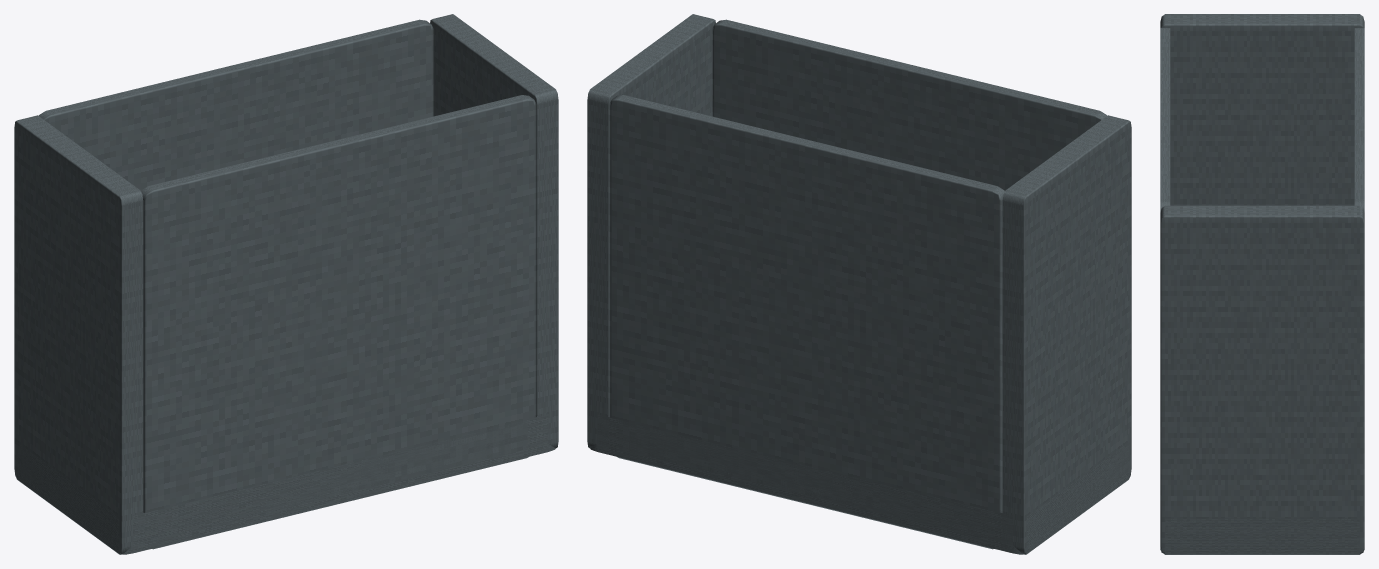
File: napkins.glb
3 renders of one model, left to right at view 1: azimuth 30°, elevation 25°; view 2: azimuth 150°, elevation 25°; view 3: azimuth 270°, elevation 25°, orthographic. The views are drawn at different scales.
Visible parts, largest first — view 1: edge (×2), side (×2), bottom; view 2: edge (×2), side (×2), bottom; view 3: side (×2), bottom, edge (×2).
Boxes of the visible parts, left/top/right/bottom form: edge (×2): left=38, top=19, right=536, bottom=549; side (×2): left=14, top=14, right=558, bottom=554; bottom: left=16, top=414, right=555, bottom=554; edge (×2): left=609, top=19, right=1107, bottom=549; side (×2): left=587, top=14, right=1131, bottom=554; bottom: left=590, top=414, right=1129, bottom=554; side (×2): left=1160, top=14, right=1364, bottom=554; bottom: left=1160, top=518, right=1364, bottom=554; edge (×2): left=1160, top=27, right=1364, bottom=212.
Size of the model in its own units: 0.14 by 0.11 by 0.06.
1 material, 1 textured.
